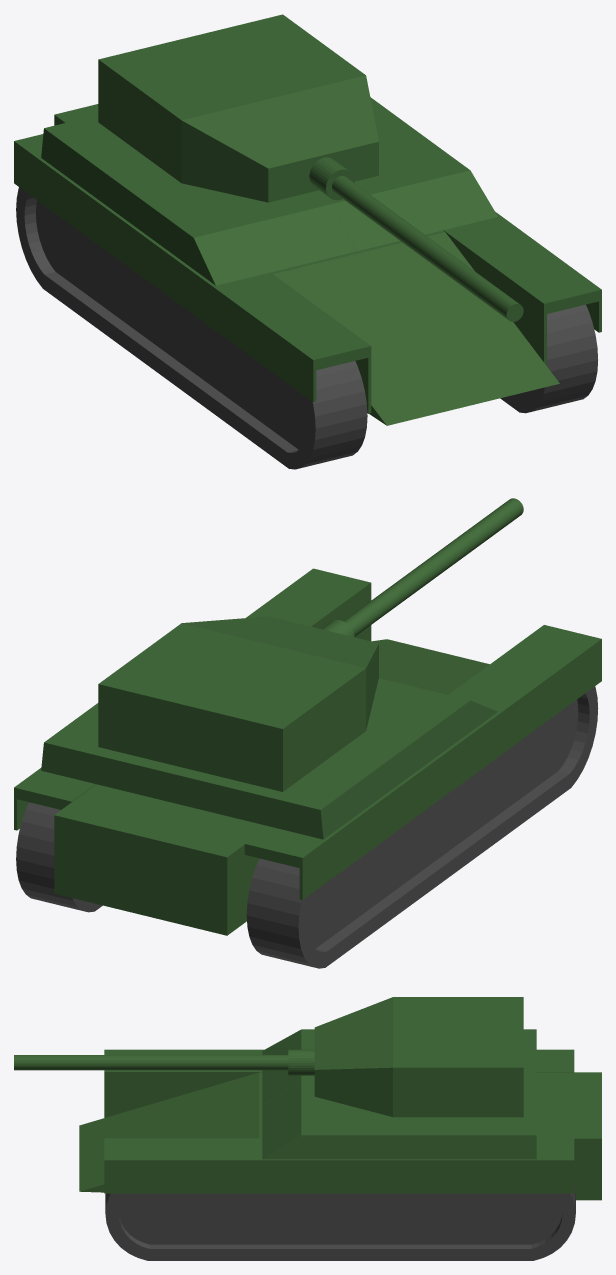
Rendered from Tank.fbx.
The picture shows the model from 3 angles, top to bottom: view 1: azimuth 30°, elevation 25°; view 2: azimuth 150°, elevation 25°; view 3: azimuth 270°, elevation 25°; orthographic projection. The views are drawn at different scales.
Visible parts, largest first — view 1: Base, GUN; view 2: Base, GUN; view 3: Base, GUN.
Boxes of the visible parts, <box> form: Base: <box>14,97,601,469</box>; GUN: <box>98,14,523,321</box>; Base: <box>14,568,601,968</box>; GUN: <box>98,498,523,791</box>; Base: <box>79,1029,601,1260</box>; GUN: <box>14,997,523,1117</box>.
Size of the model in its own units: 200 by 147 by 450.
